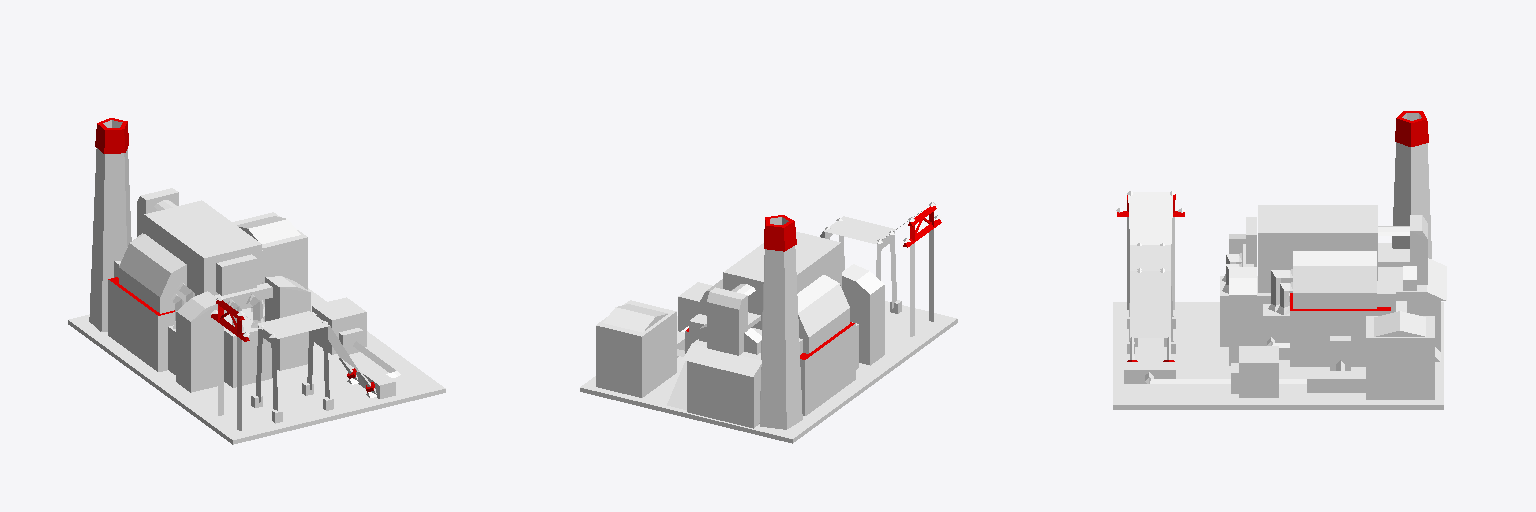
Rendered from PowerPlant_Base_Normal.obj.
The picture shows the model from 3 angles: view 1: azimuth 30°, elevation 25°; view 2: azimuth 150°, elevation 25°; view 3: azimuth 270°, elevation 25°; orthographic projection.
Visible parts, largest first — view 1: BUILDING, GENERATOR_COVER, HOUSECOLOR01, WIRES; view 2: BUILDING, GENERATOR_COVER, HOUSECOLOR01, WIRES; view 3: BUILDING, WIRES, GENERATOR_COVER, HOUSECOLOR01.
Part boxes in pixels (x1,y1,x2,y2): BUILDING: (68, 120, 445, 444); GENERATOR_COVER: (119, 234, 329, 410); HOUSECOLOR01: (95, 118, 374, 392); WIRES: (229, 304, 358, 370); BUILDING: (580, 202, 957, 443); GENERATOR_COVER: (707, 231, 896, 352); HOUSECOLOR01: (686, 206, 941, 359); WIRES: (820, 211, 921, 243); BUILDING: (1113, 113, 1446, 409); WIRES: (1128, 192, 1172, 337); GENERATOR_COVER: (1129, 251, 1376, 346); HOUSECOLOR01: (1117, 111, 1428, 361).
Size of the model in its own units: 45.7 by 41.83 by 61.95.